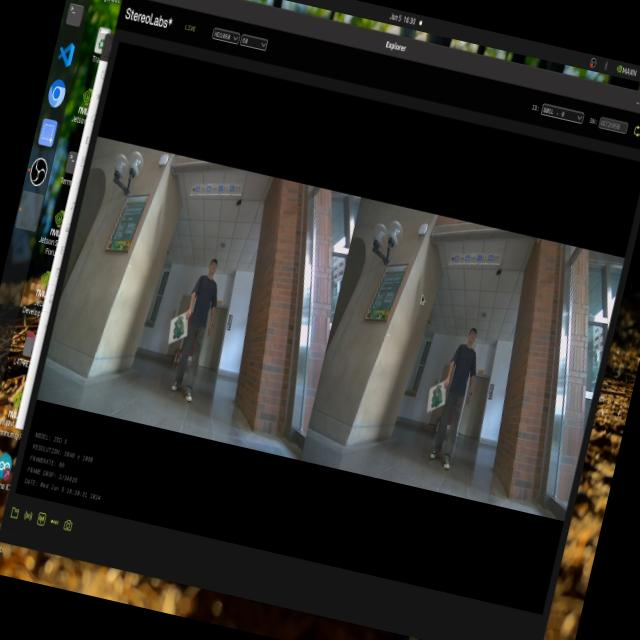green: (168, 316, 193, 344), (426, 384, 446, 409)
